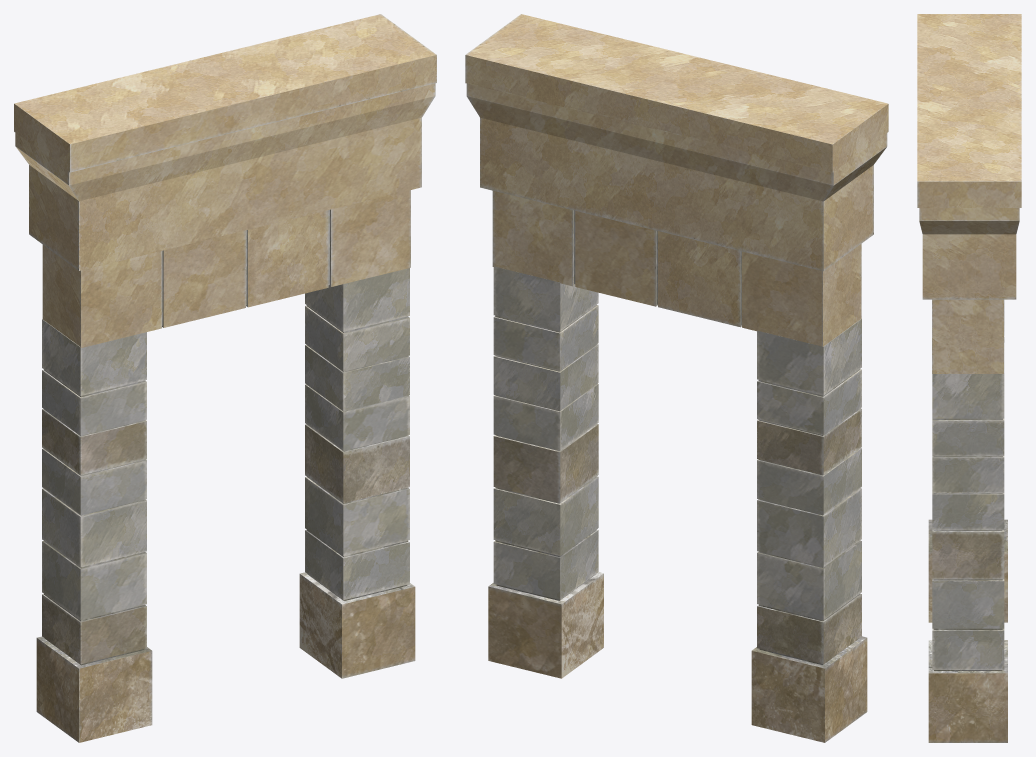
The model's file is Dintel Puerta.fbx.
3 renders of one model, left to right at view 1: azimuth 30°, elevation 25°; view 2: azimuth 150°, elevation 25°; view 3: azimuth 270°, elevation 25°, orthographic. The views are drawn at different scales.
Parts seen in each view (by area): view 1: Cube.065; view 2: Cube.065; view 3: Cube.065.
Boxes of the visible parts, x1,y1,x2,y2 form: Cube.065: (14, 14, 436, 742); Cube.065: (465, 14, 888, 742); Cube.065: (917, 14, 1021, 742).
Size of the model in its own units: 222 by 350 by 58.43.
1 material, 1 textured.
